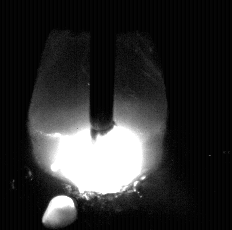arame: (91, 0, 116, 139)
poca: (31, 0, 166, 230)
